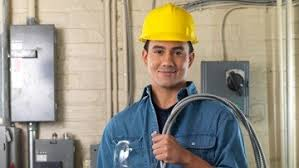Person_wearing_helmet: (135, 3, 200, 54)
